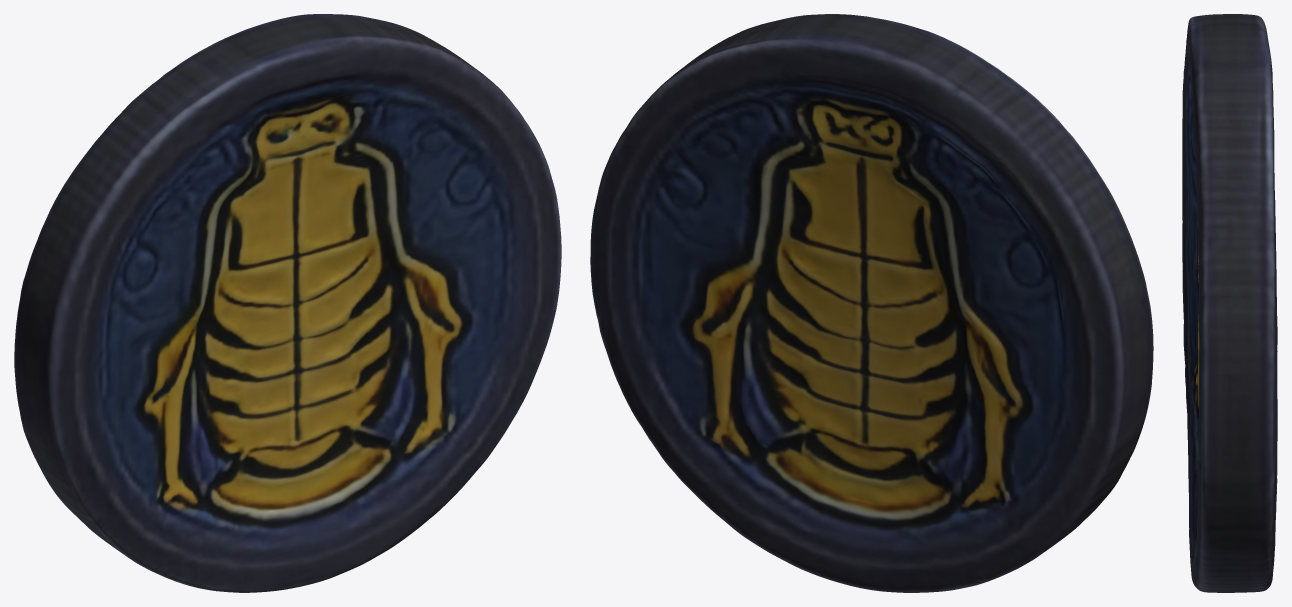
Rendered from 5a77902a456a_An_Indiana_Jones_ca.fbx.
3 views of the same model, side by side, from view 1: azimuth 30°, elevation 25°; view 2: azimuth 150°, elevation 25°; view 3: azimuth 270°, elevation 25° (orthographic). The views are drawn at different scales.
Parts seen in each view (by area): view 1: high_poly; view 2: high_poly; view 3: high_poly.
Boxes of the visible parts, x1,y1,x2,y2 form: high_poly: (14, 14, 561, 592); high_poly: (590, 14, 1153, 592); high_poly: (1182, 14, 1277, 592).
Bounding box in the file's own units: 100 × 99.02 × 16.42.
